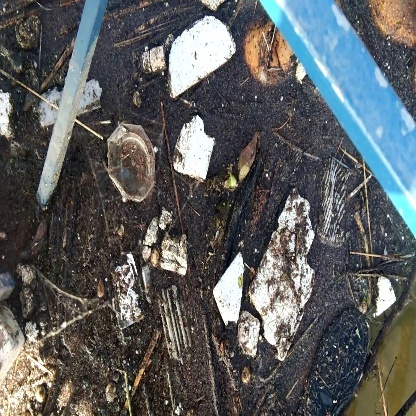plastic-garbage: (161, 11, 239, 105)
